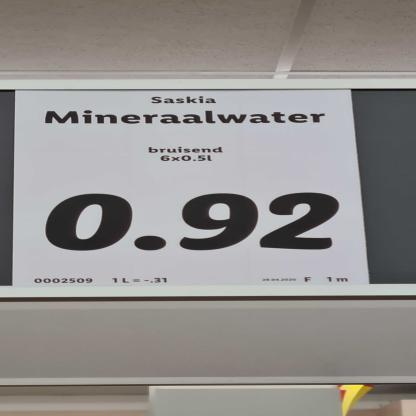prtg: (13, 90, 371, 287)
